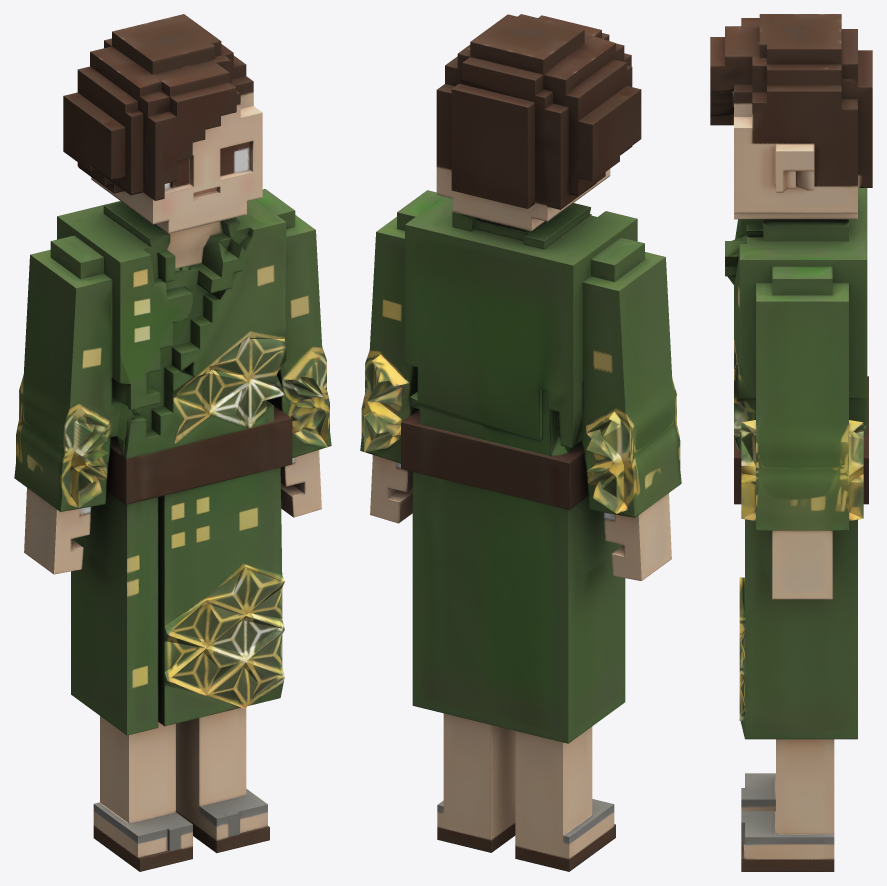
The model's file is hombre2.obj.
3 views of the same model, side by side, from view 1: azimuth 30°, elevation 25°; view 2: azimuth 150°, elevation 25°; view 3: azimuth 270°, elevation 25° (orthographic).
Parts seen in each view (by area): view 1: model; view 2: model; view 3: model.
Boxes of the visible parts, <box> form: model: <box>14,14,331,871</box>; model: <box>360,14,681,871</box>; model: <box>710,14,872,871</box>.
Bounding box in the file's own units: 0.6739 × 1.9 × 0.3467.
1 material, 1 textured.
